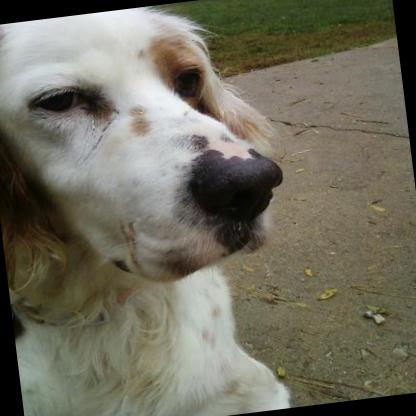English_setter: (0, 0, 311, 416)
